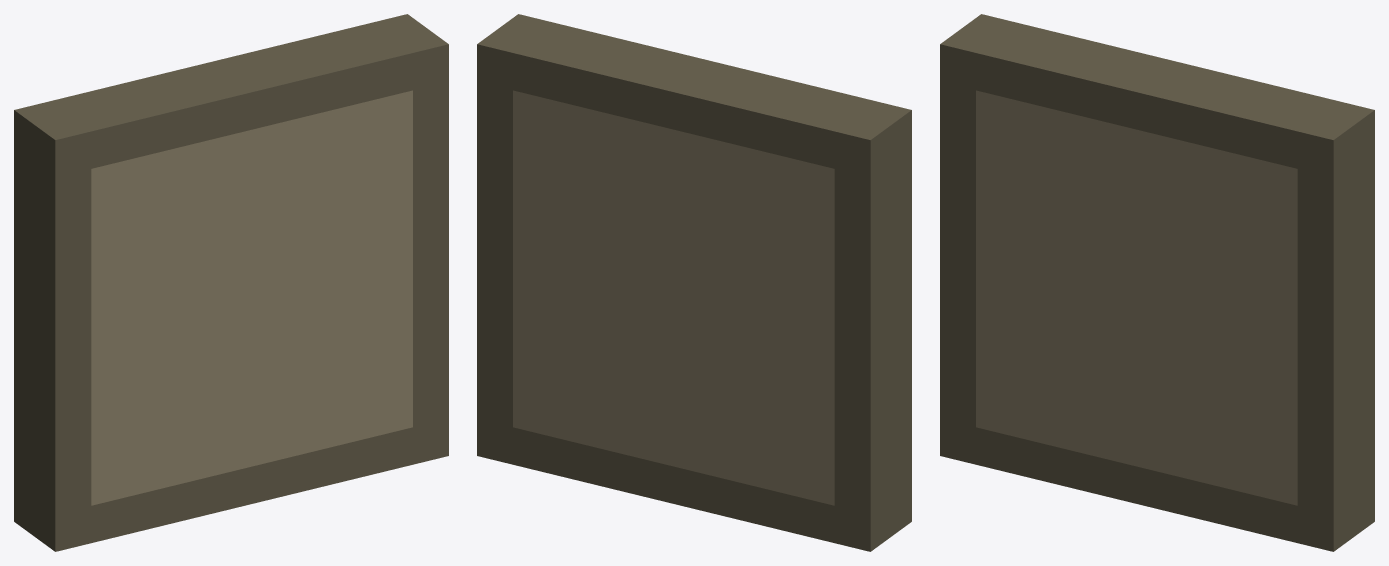
The model's file is estante_botellas_desgastado_01.glb.
The picture shows the model from 3 angles, left to right: view 1: azimuth 30°, elevation 25°; view 2: azimuth 150°, elevation 25°; view 3: azimuth 330°, elevation 25°; orthographic projection.
Parts seen in each view (by area): view 1: estante_botellas_desgastado; view 2: estante_botellas_desgastado; view 3: estante_botellas_desgastado.
Part boxes in pixels (x1,y1,x2,y2): estante_botellas_desgastado: (14, 14, 448, 551); estante_botellas_desgastado: (477, 14, 911, 551); estante_botellas_desgastado: (940, 14, 1374, 551).
Size of the model in its own units: 1 by 1 by 0.1818.
